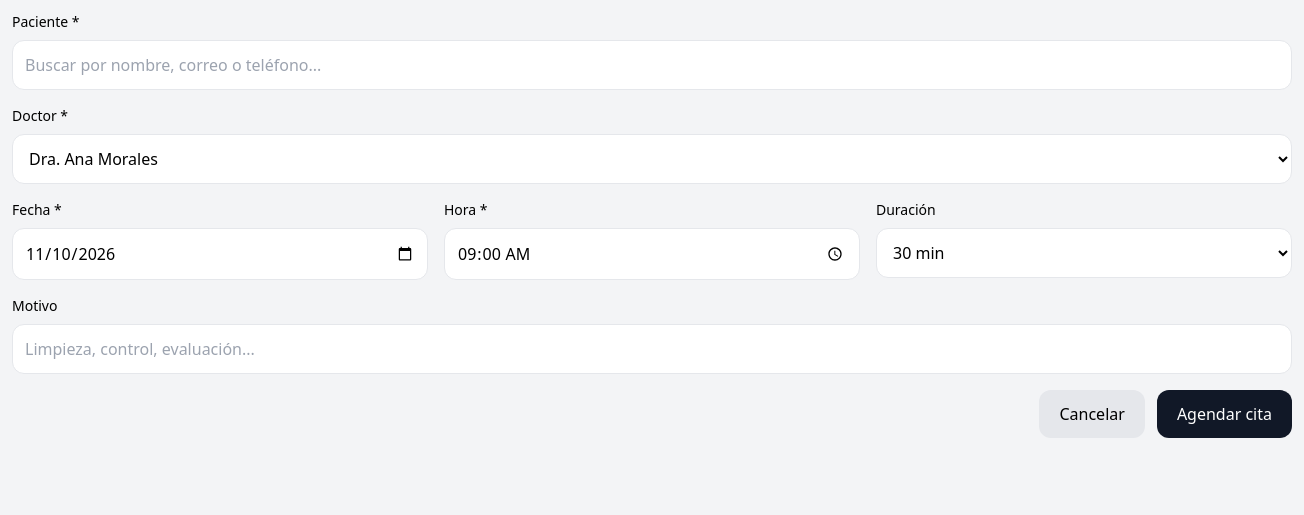
Test: AppointmentForm › pide un paciente antes de enviar
Click the button "Agendar cita" at (1224, 414), box [1157,390,1292,438]
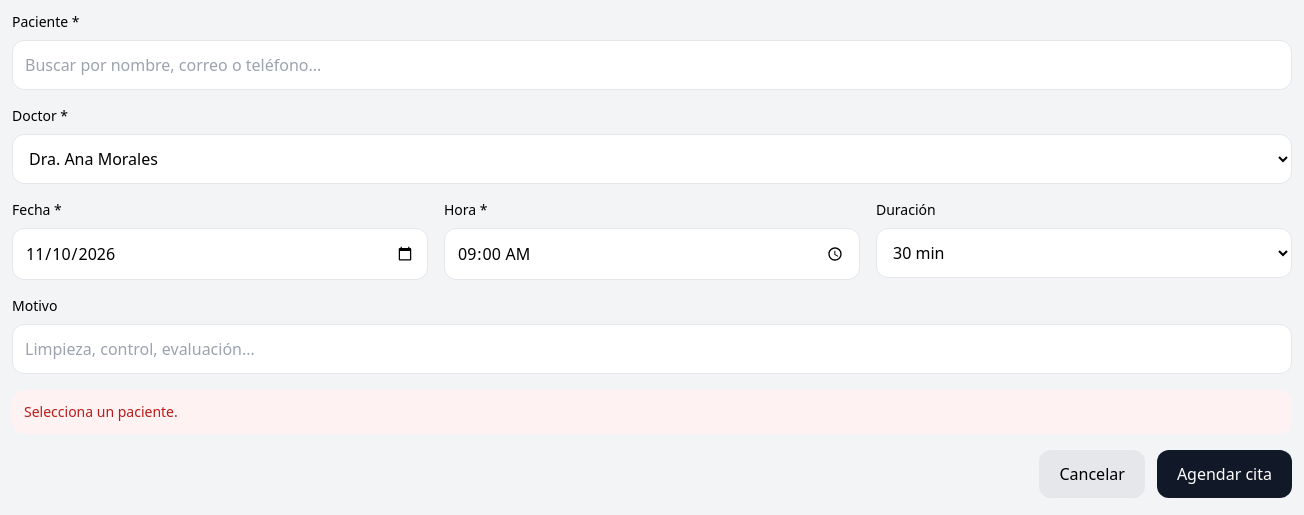
Result: the message reads "Selecciona un paciente." at [24,402,178,421]
